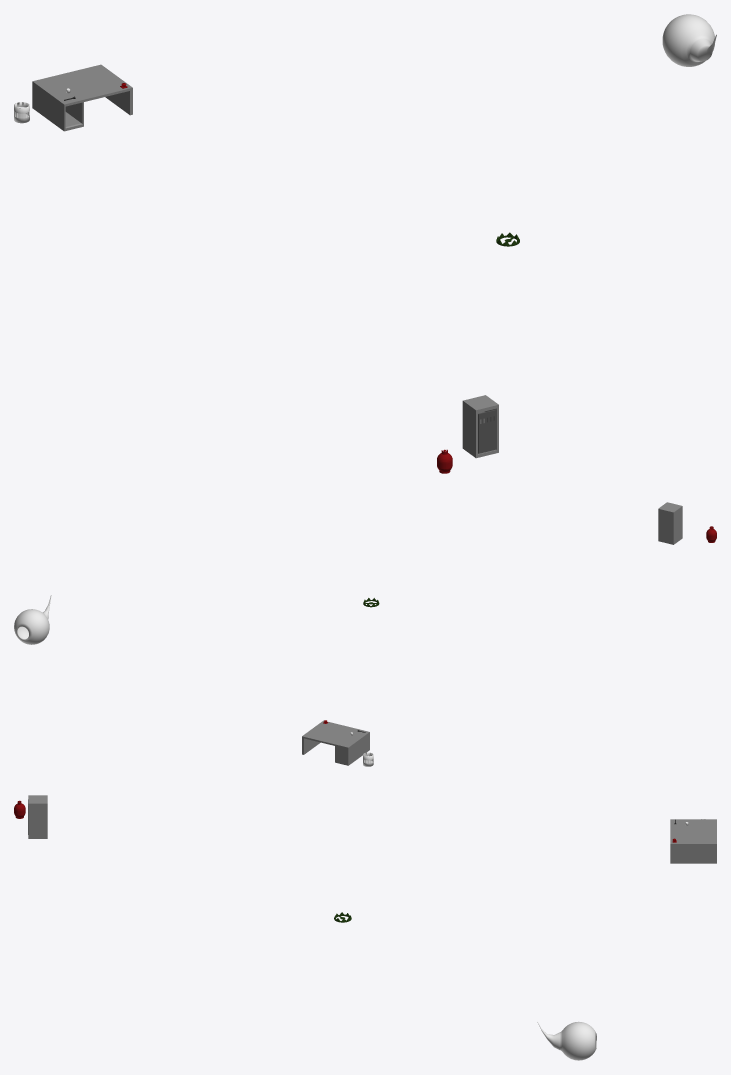
Rendered from Bombonne.fbx.
The picture shows the model from 3 angles, top to bottom: view 1: azimuth 30°, elevation 25°; view 2: azimuth 150°, elevation 25°; view 3: azimuth 270°, elevation 25°; orthographic projection. The views are drawn at different scales.
Parts seen in each view (by area): view 1: Bureau, Sphère, Cube, Cube.001; view 2: Bureau, Sphère, Cube; view 3: Bureau, Sphère, Cube.
Boxes of the visible parts, bbox=[...] form: Bureau: bbox=[32, 64, 132, 131]; Sphère: bbox=[662, 14, 716, 66]; Cube: bbox=[462, 395, 498, 458]; Cube.001: bbox=[478, 409, 496, 453]; Bureau: bbox=[302, 720, 369, 765]; Sphère: bbox=[14, 595, 51, 644]; Cube: bbox=[658, 502, 682, 544]; Bureau: bbox=[670, 819, 716, 863]; Sphère: bbox=[537, 1021, 596, 1060]; Cube: bbox=[28, 795, 47, 838].
Size of the model in its own units: 2853 by 300 by 3615.
